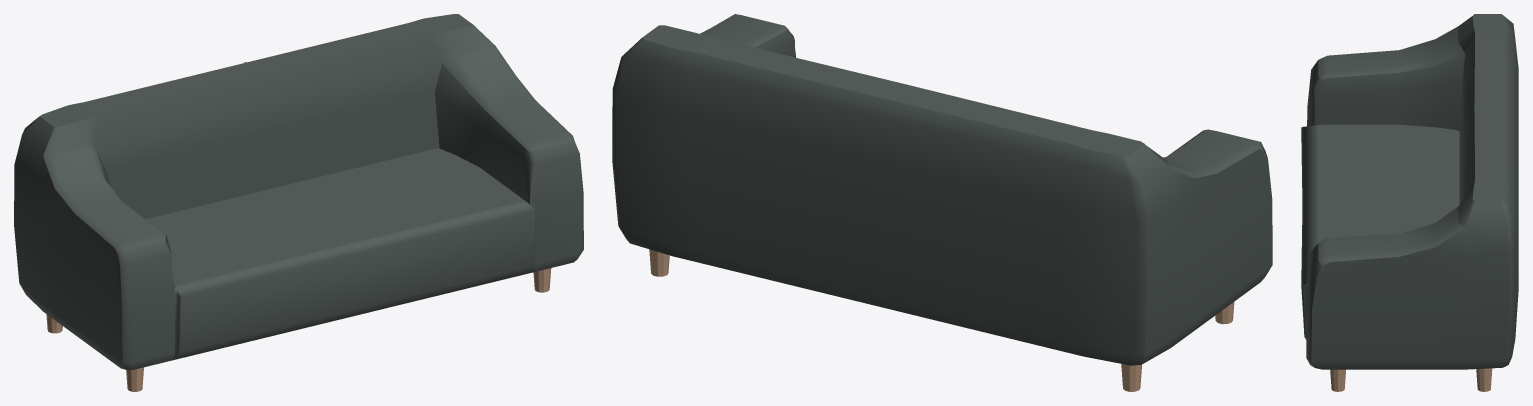
File: sofa.fbx
3 renders of one model, left to right at view 1: azimuth 30°, elevation 25°; view 2: azimuth 150°, elevation 25°; view 3: azimuth 270°, elevation 25°, orthographic. The views are drawn at different scales.
Parts seen in each view (by area): view 1: pCylinder5; view 2: pCylinder5; view 3: pCylinder5.
Part boxes in pixels (<box>): pCylinder5: <box>14,14,583,391</box>; pCylinder5: <box>612,14,1272,391</box>; pCylinder5: <box>1301,14,1518,391</box>.
Size of the model in its own units: 1.5 by 0.6491 by 0.6676.
1 material, 1 textured.
